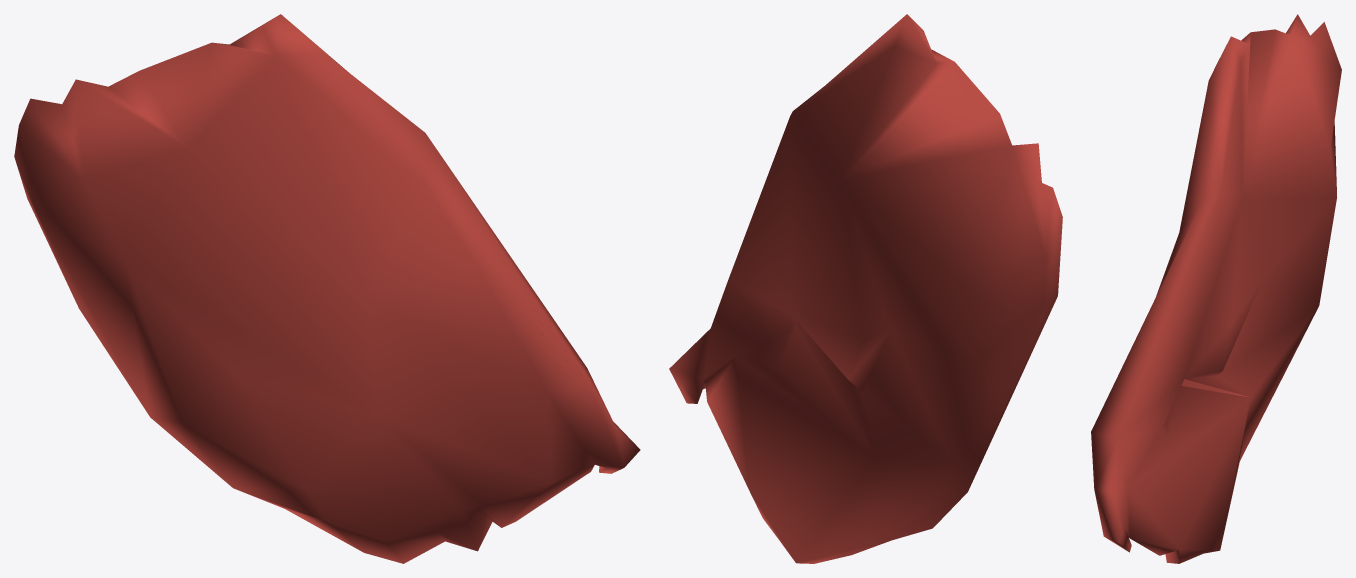
Rendered from musculos-mentalis-muscle-r.glb.
3 renders of one model, left to right at view 1: azimuth 30°, elevation 25°; view 2: azimuth 150°, elevation 25°; view 3: azimuth 270°, elevation 25°, orthographic. The views are drawn at different scales.
Parts seen in each view (by area): view 1: Mentalis muscle.r; view 2: Mentalis muscle.r; view 3: Mentalis muscle.r.
Boxes of the visible parts, left/top/right/bottom form: Mentalis muscle.r: left=14, top=14, right=640, bottom=563; Mentalis muscle.r: left=669, top=14, right=1062, bottom=563; Mentalis muscle.r: left=1091, top=14, right=1341, bottom=563.
Bounding box in the file's own units: 0.0137 × 0.0148 × 0.00708.
